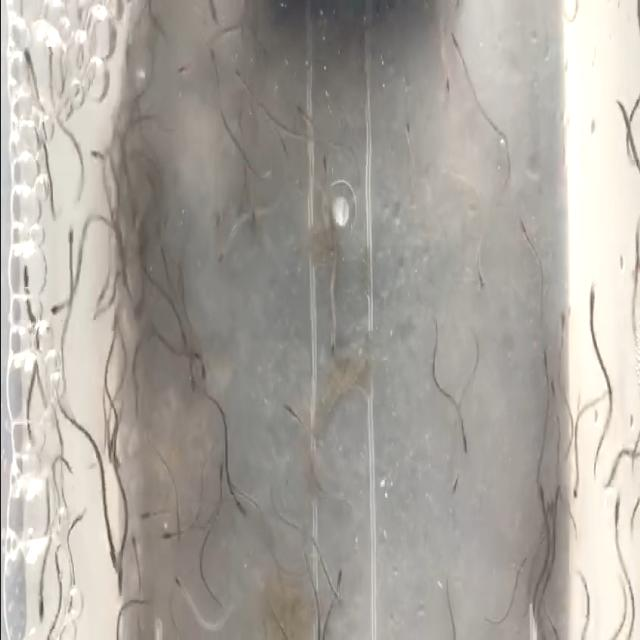active_glass_eel: (104, 534, 124, 572), (474, 227, 486, 290), (446, 28, 466, 62), (20, 260, 36, 302), (401, 111, 416, 155), (114, 555, 128, 601), (281, 396, 301, 428), (458, 412, 472, 457), (446, 468, 462, 506), (318, 140, 332, 183), (214, 234, 231, 268), (206, 42, 222, 78), (438, 58, 452, 99), (588, 273, 600, 319), (111, 430, 124, 472), (19, 42, 35, 76), (230, 492, 248, 522), (69, 502, 88, 530), (214, 444, 228, 480), (612, 494, 626, 529), (516, 210, 529, 247), (324, 316, 336, 356), (551, 488, 565, 522), (230, 57, 248, 83), (188, 348, 204, 377), (129, 528, 143, 560), (572, 464, 585, 498), (92, 300, 109, 326), (158, 522, 178, 544), (48, 298, 68, 320), (546, 374, 558, 410), (96, 278, 110, 308), (65, 224, 77, 259), (173, 572, 191, 595), (537, 340, 549, 374), (294, 101, 314, 121), (536, 487, 550, 515), (104, 426, 114, 464), (557, 300, 567, 336), (175, 62, 195, 80), (334, 567, 344, 601), (184, 363, 197, 388), (140, 502, 156, 520), (61, 458, 73, 482), (88, 145, 104, 161), (248, 207, 255, 234)
